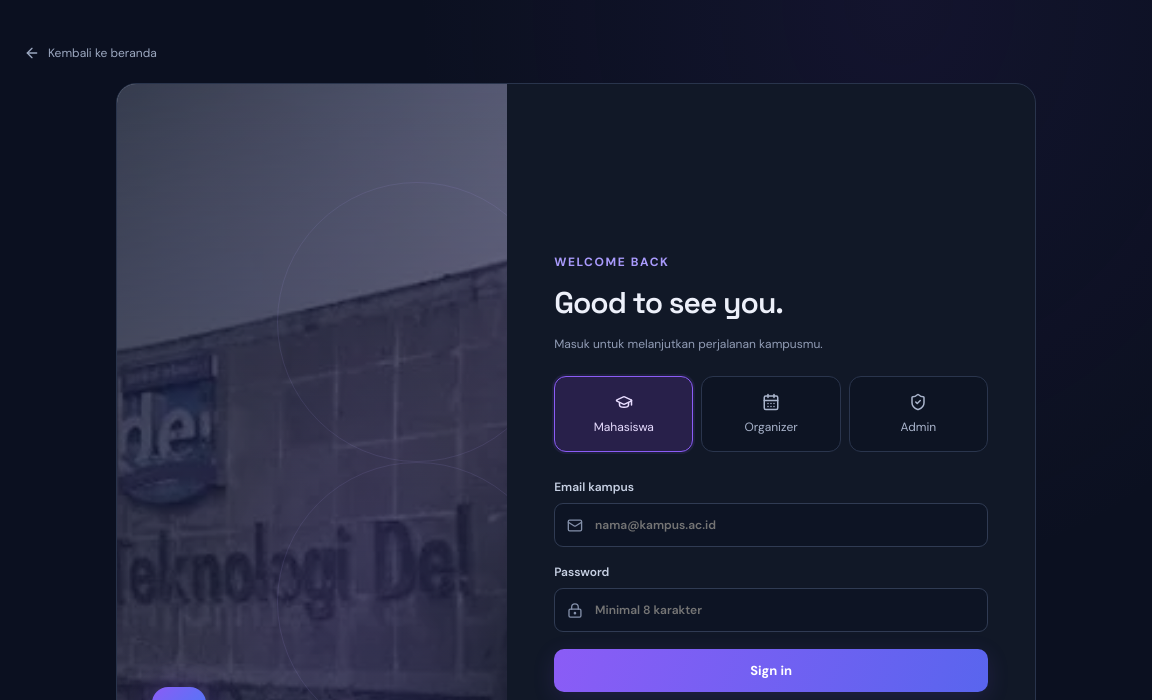
Test case: AuthPage › mengisi email dan password demo mahasiswa
What coordinates should you click on to do the following:
click the button "Mahasiswa"
I would click on:
 (624, 414)
Its box is [554, 376, 693, 452].
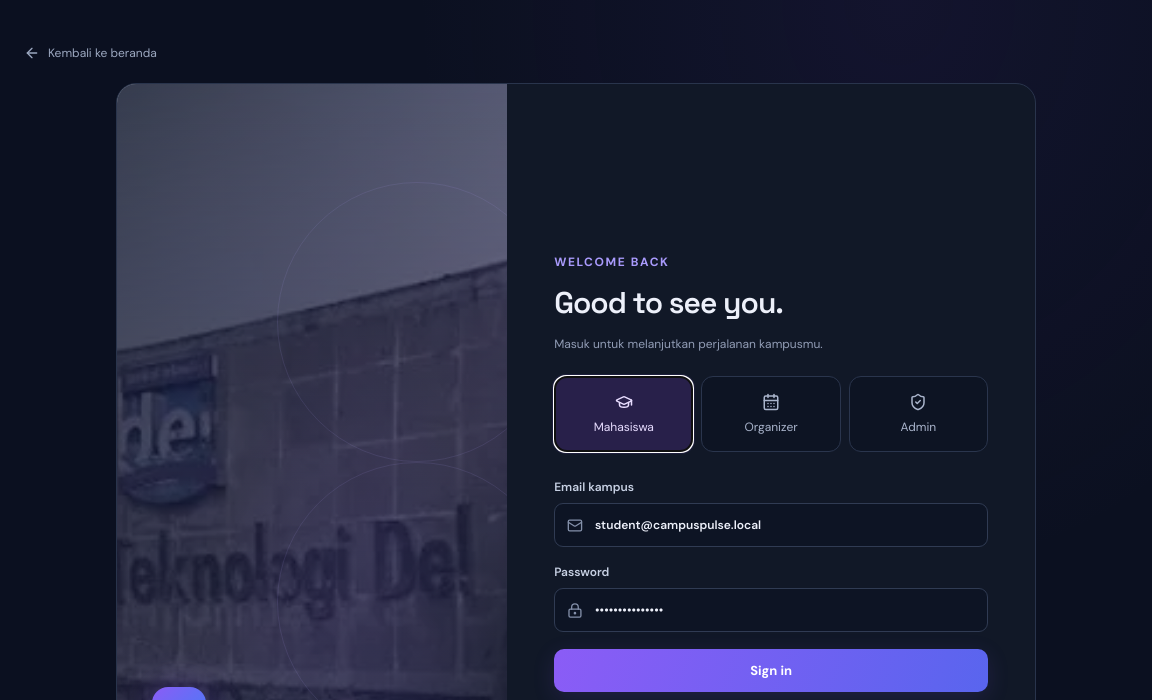
Check: the field labelled "Email kampus" holds "student@campuspulse.local", box [593, 516, 975, 534]
Check: the password field labelled "Password" holds "CampusPulse123!", box [593, 602, 975, 620]
